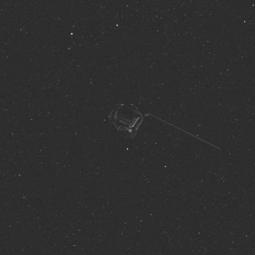earth_observation_sat_1: (104, 99, 223, 166)
